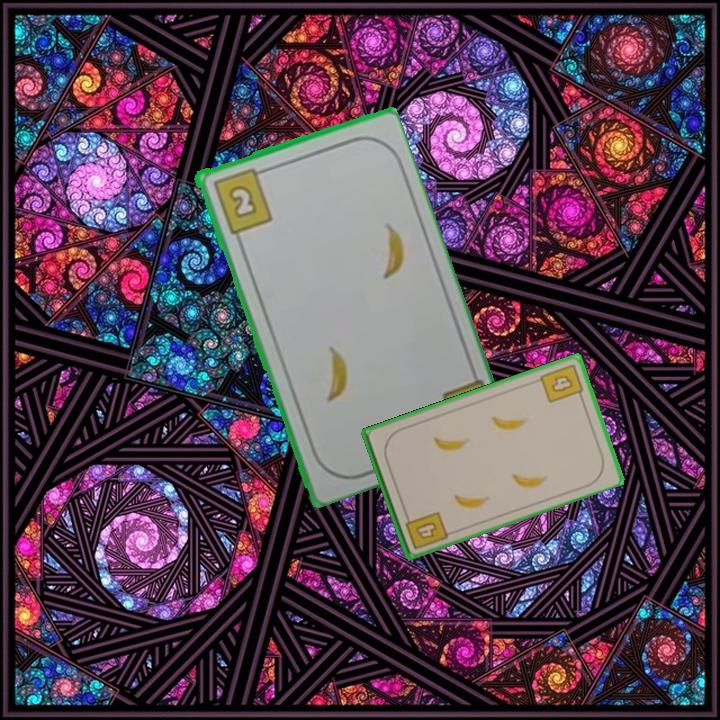2b: (209, 164, 275, 236)
4b: (536, 360, 586, 406), (402, 507, 450, 552)
